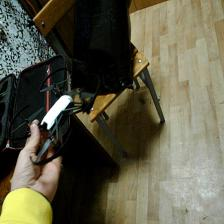drone: (5, 62, 103, 169)
